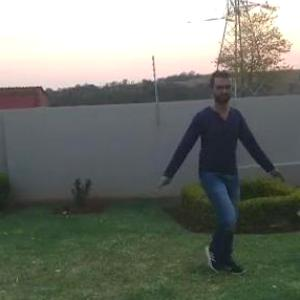land: (150, 69, 273, 275)
